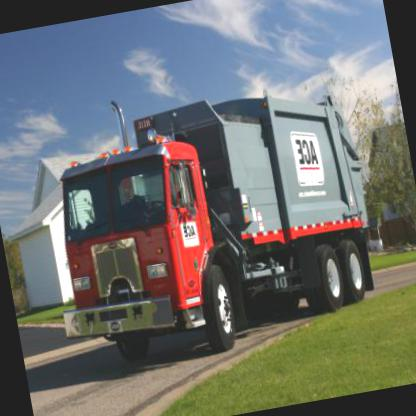truck: (37, 81, 378, 382)
